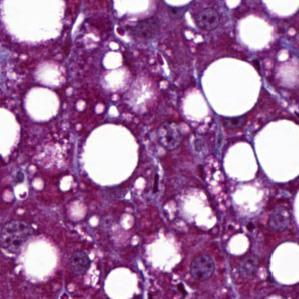inflammation: (146, 167, 167, 198)
